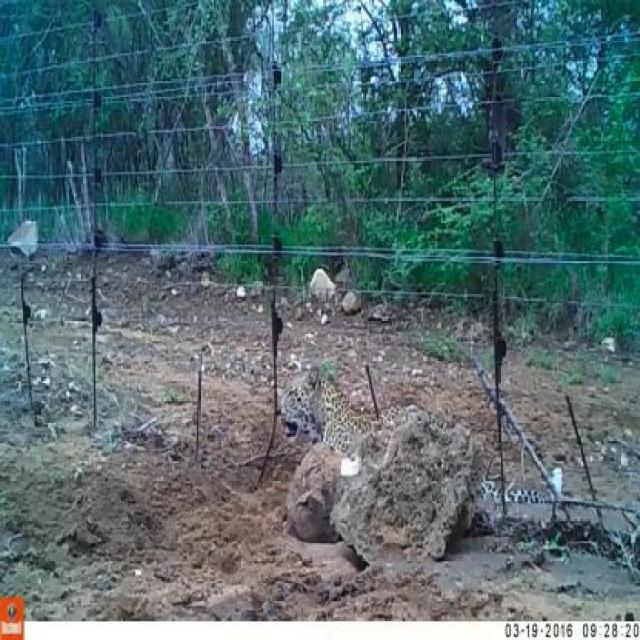Leopard: (252, 345, 418, 506)
